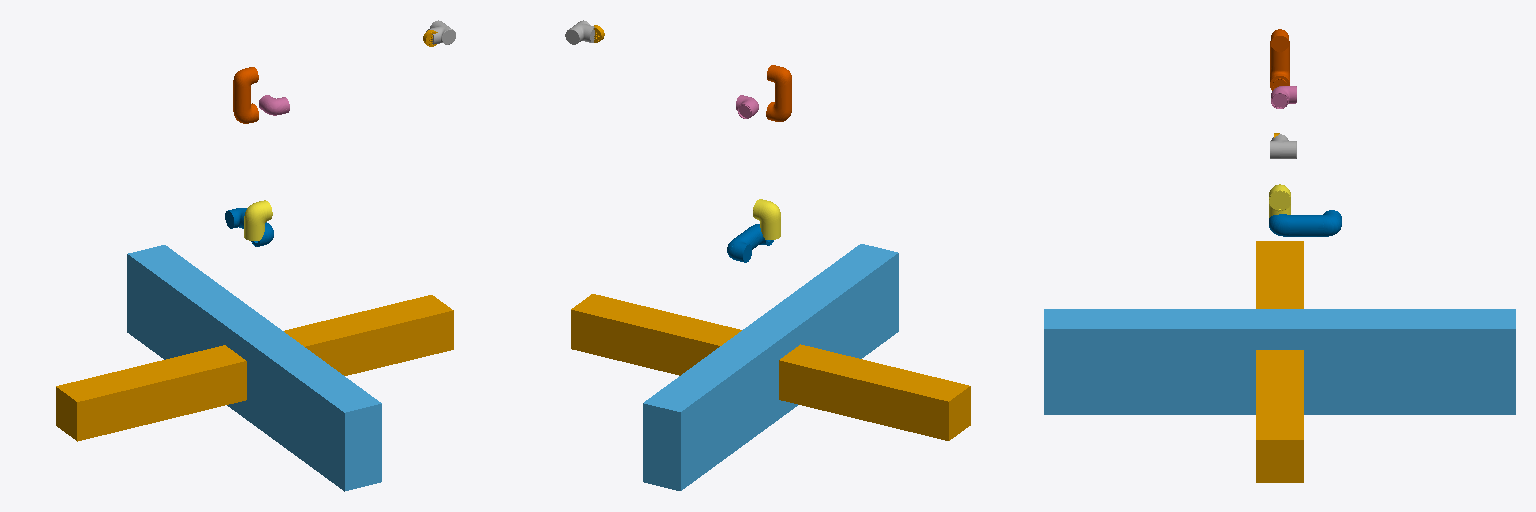
robot.urdf — panda:
<?xml version="1.0" encoding="utf-8"?>
<!-- =================================================================================== -->
<!-- |    This document was autogenerated by xacro from panda_arm_hand.urdf.xacro      | -->
<!-- |    EDITING THIS FILE BY HAND IS NOT RECOMMENDED                                 | -->
<!-- =================================================================================== -->
<robot name="panda" xmlns:xacro="http://www.ros.org/wiki/xacro">
  <!-- add a new base link is just a slab with no collision -->
  <link name="track_x">
    <visual>
      <geometry>
        <box size="1 0.1 0.1"/>
      </geometry>
    </visual>
  </link>
  <link name="track_y">
    <visual>
      <geometry>
        <box size="0.1 1 0.2"/>
      </geometry>
    </visual>
  </link>
  <joint name="move_x" type="prismatic">
    <origin rpy="0 0 0" xyz="0 0 0"/>
    <parent link="track_x"/>
    <child link="track_y"/>
    <axis xyz="1 0 0"/>
    <limit effort="20" lower="-1" upper="1" velocity="0.2"/>
  </joint>
  <link name="panda_link0">
    <visual>
      <geometry>
        <mesh filename="franka_description/meshes/visual/link0.dae"/>
      </geometry>
    </visual>
    <collision>
      <geometry>
        <mesh filename="franka_description/meshes/collision/link0.stl"/>
      </geometry>
    </collision>
  </link>
  <joint name="move_y" type="prismatic">
    <origin rpy="0 0 0" xyz="0 0 0"/>
    <parent link="track_y"/>
    <child link="panda_link0"/>
    <axis xyz="0 1 0"/>
    <limit effort="20" lower="-1" upper="1" velocity="0.2"/>
  </joint>
  <link name="panda_link1">
    <visual>
      <geometry>
        <mesh filename="franka_description/meshes/visual/link1.dae"/>
      </geometry>
    </visual>
    <collision>
      <geometry>
        <mesh filename="franka_description/meshes/collision/link1.stl"/>
      </geometry>
    </collision>
  </link>
  <joint name="panda_joint1" type="revolute">
    <safety_controller k_position="100.0" k_velocity="40.0" soft_lower_limit="-2.8973" soft_upper_limit="2.8973"/>
    <origin rpy="0 0 0" xyz="0 0 0.333"/>
    <parent link="panda_link0"/>
    <child link="panda_link1"/>
    <axis xyz="0 0 1"/>
    <limit effort="87" lower="-2.8973" upper="2.8973" velocity="2.1750"/>
  </joint>
  <link name="panda_link2">
    <visual>
      <geometry>
        <mesh filename="franka_description/meshes/visual/link2.dae"/>
      </geometry>
    </visual>
    <collision>
      <geometry>
        <mesh filename="franka_description/meshes/collision/link2.stl"/>
      </geometry>
    </collision>
  </link>
  <joint name="panda_joint2" type="revolute">
    <safety_controller k_position="100.0" k_velocity="40.0" soft_lower_limit="-1.7628" soft_upper_limit="1.7628"/>
    <origin rpy="-1.57079632679 0 0" xyz="0 0 0"/>
    <parent link="panda_link1"/>
    <child link="panda_link2"/>
    <axis xyz="0 0 1"/>
    <limit effort="87" lower="-1.7628" upper="1.7628" velocity="2.1750"/>
  </joint>
  <link name="panda_link3">
    <visual>
      <geometry>
        <mesh filename="franka_description/meshes/visual/link3.dae"/>
      </geometry>
    </visual>
    <collision>
      <geometry>
        <mesh filename="franka_description/meshes/collision/link3.stl"/>
      </geometry>
    </collision>
  </link>
  <joint name="panda_joint3" type="revolute">
    <safety_controller k_position="100.0" k_velocity="40.0" soft_lower_limit="-2.8973" soft_upper_limit="2.8973"/>
    <origin rpy="1.57079632679 0 0" xyz="0 -0.316 0"/>
    <parent link="panda_link2"/>
    <child link="panda_link3"/>
    <axis xyz="0 0 1"/>
    <limit effort="87" lower="-2.8973" upper="2.8973" velocity="2.1750"/>
  </joint>
  <link name="panda_link4">
    <visual>
      <geometry>
        <mesh filename="franka_description/meshes/visual/link4.dae"/>
      </geometry>
    </visual>
    <collision>
      <geometry>
        <mesh filename="franka_description/meshes/collision/link4.stl"/>
      </geometry>
    </collision>
  </link>
  <joint name="panda_joint4" type="revolute">
    <safety_controller k_position="100.0" k_velocity="40.0" soft_lower_limit="-3.0718" soft_upper_limit="-0.0698"/>
    <origin rpy="1.57079632679 0 0" xyz="0.0825 0 0"/>
    <parent link="panda_link3"/>
    <child link="panda_link4"/>
    <axis xyz="0 0 1"/>
    <limit effort="87" lower="-3.0718" upper="-0.0698" velocity="2.1750"/>
  </joint>
  <link name="panda_link5">
    <visual>
      <geometry>
        <mesh filename="franka_description/meshes/visual/link5.dae"/>
      </geometry>
    </visual>
    <collision>
      <geometry>
        <mesh filename="franka_description/meshes/collision/link5.stl"/>
      </geometry>
    </collision>
  </link>
  <joint name="panda_joint5" type="revolute">
    <safety_controller k_position="100.0" k_velocity="40.0" soft_lower_limit="-2.8973" soft_upper_limit="2.8973"/>
    <origin rpy="-1.57079632679 0 0" xyz="-0.0825 0.384 0"/>
    <parent link="panda_link4"/>
    <child link="panda_link5"/>
    <axis xyz="0 0 1"/>
    <limit effort="12" lower="-2.8973" upper="2.8973" velocity="2.6100"/>
  </joint>
  <link name="panda_link6">
    <visual>
      <geometry>
        <mesh filename="franka_description/meshes/visual/link6.dae"/>
      </geometry>
    </visual>
    <collision>
      <geometry>
        <mesh filename="franka_description/meshes/collision/link6.stl"/>
      </geometry>
    </collision>
  </link>
  <joint name="panda_joint6" type="revolute">
    <safety_controller k_position="100.0" k_velocity="40.0" soft_lower_limit="-0.0175" soft_upper_limit="3.7525"/>
    <origin rpy="1.57079632679 0 0" xyz="0 0 0"/>
    <parent link="panda_link5"/>
    <child link="panda_link6"/>
    <axis xyz="0 0 1"/>
    <limit effort="12" lower="-0.0175" upper="3.7525" velocity="2.6100"/>
  </joint>
  <link name="panda_link7">
    <visual>
      <geometry>
        <mesh filename="franka_description/meshes/visual/link7.dae"/>
      </geometry>
    </visual>
    <collision>
      <geometry>
        <mesh filename="franka_description/meshes/collision/link7.stl"/>
      </geometry>
    </collision>
  </link>
  <joint name="panda_joint7" type="revolute">
    <safety_controller k_position="100.0" k_velocity="40.0" soft_lower_limit="-2.8973" soft_upper_limit="2.8973"/>
    <origin rpy="1.57079632679 0 0" xyz="0.088 0 0"/>
    <parent link="panda_link6"/>
    <child link="panda_link7"/>
    <axis xyz="0 0 1"/>
    <limit effort="12" lower="-2.8973" upper="2.8973" velocity="2.6100"/>
  </joint>
  <link name="panda_link8"/>
  <joint name="panda_joint8" type="fixed">
    <origin rpy="0 0 0" xyz="0 0 0.107"/>
    <parent link="panda_link7"/>
    <child link="panda_link8"/>
    <axis xyz="0 0 0"/>
  </joint>
  <joint name="panda_hand_joint" type="fixed">
    <parent link="panda_link8"/>
    <child link="panda_hand"/>
    <origin rpy="0 0 -0.785398163397" xyz="0 0 0"/>
  </joint>
  <link name="panda_hand">
    <visual>
      <geometry>
        <mesh filename="franka_description/meshes/visual/hand.dae"/>
      </geometry>
    </visual>
    <collision>
      <geometry>
        <mesh filename="franka_description/meshes/collision/hand.stl"/>
      </geometry>
    </collision>
  </link>
  <link name="panda_leftfinger">
    <visual>
      <geometry>
        <mesh filename="franka_description/meshes/visual/finger.dae"/>
      </geometry>
    </visual>
    <collision>
      <geometry>
        <mesh filename="franka_description/meshes/collision/finger.stl"/>
      </geometry>
    </collision>
  </link>
  <link name="panda_rightfinger">
    <visual>
      <origin rpy="0 0 3.14159265359" xyz="0 0 0"/>
      <geometry>
        <mesh filename="franka_description/meshes/visual/finger.dae"/>
      </geometry>
    </visual>
    <collision>
      <origin rpy="0 0 3.14159265359" xyz="0 0 0"/>
      <geometry>
        <mesh filename="franka_description/meshes/collision/finger.stl"/>
      </geometry>
    </collision>
  </link>
  <joint name="panda_finger_joint1" type="prismatic">
    <parent link="panda_hand"/>
    <child link="panda_leftfinger"/>
    <origin rpy="0 0 0" xyz="0 0 0.0584"/>
    <axis xyz="0 1 0"/>
    <limit effort="20" lower="0.0" upper="0.04" velocity="0.2"/>
  </joint>
  <joint name="panda_finger_joint2" type="prismatic">
    <parent link="panda_hand"/>
    <child link="panda_rightfinger"/>
    <origin rpy="0 0 0" xyz="0 0 0.0584"/>
    <axis xyz="0 -1 0"/>
    <limit effort="20" lower="0.0" upper="0.04" velocity="0.2"/>
    <mimic joint="panda_finger_joint1"/>
  </joint>
</robot>

--- Facts derived from the render (not from the file) ---
Views: 3 orthographic renders of the robot side by side, from view 1: azimuth 30°, elevation 25°; view 2: azimuth 150°, elevation 25°; view 3: azimuth 270°, elevation 25°.
Robot: panda — 14 links, 13 joints (7 revolute, 4 prismatic, 2 fixed); root link track_x; default pose: all joints at 0 but 1 set to mid-range because 0 is outside their limits (panda_joint4 = -1.57).
Visible links, largest first — view 1: track_y, track_x, panda_link3, panda_link1, panda_link2; view 2: track_y, track_x, panda_link3, panda_link2, panda_link1; view 3: track_y, track_x, panda_link2, panda_link3, panda_link1, panda_link5.
Link boxes in pixels (x1,y1,x2,y2): track_y: (127,245,381,491); track_x: (56,295,453,441); panda_link3: (233,67,258,123); panda_link1: (244,200,272,240); panda_link2: (225,208,273,246); track_y: (643,244,898,490); track_x: (571,294,970,440); panda_link3: (766,65,791,121); panda_link2: (727,224,773,262); panda_link1: (753,199,780,239); track_y: (1044,309,1515,414); track_x: (1256,241,1303,482); panda_link2: (1269,210,1341,236); panda_link3: (1270,29,1289,90); panda_link1: (1269,184,1290,217); panda_link5: (1270,134,1296,158).
Bounding box of the posed robot: 1.02 × 1 × 0.8642 m (x, y, z).
Meshes: 10 distinct files referenced, 6 mesh visuals loaded (6 Collada DAE); not drawn: 5 (reference not matched to a file when rendering).